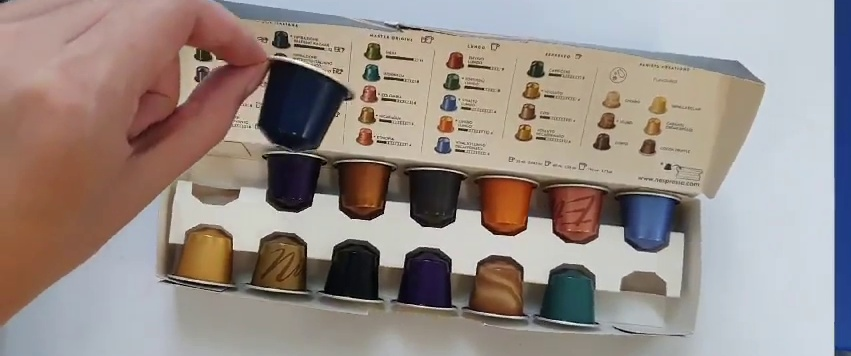capsule_1: (260, 56, 352, 150)
